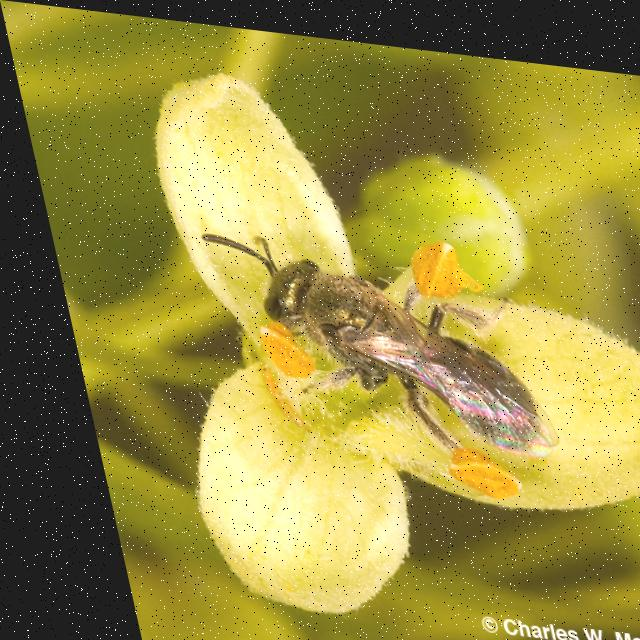Lasioglossum: (185, 204, 552, 493)
